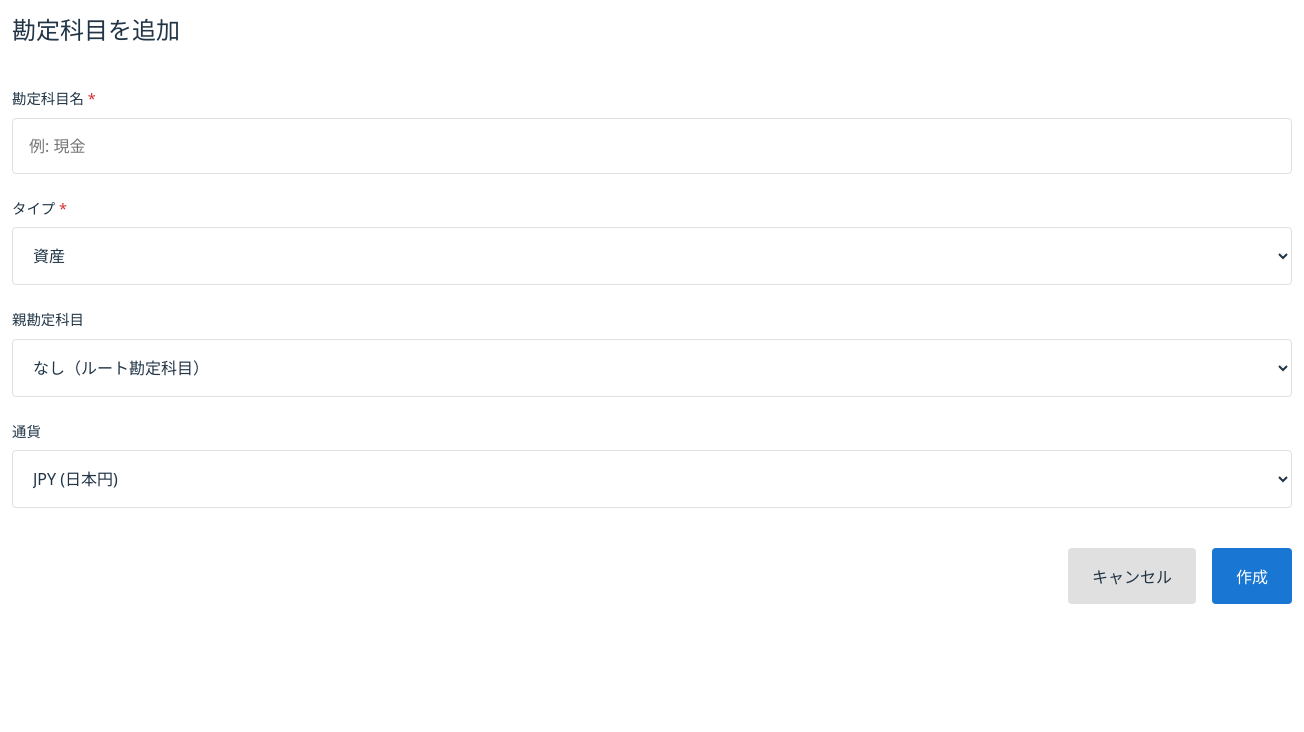
Test: AccountForm › validates required fields
Click the button "作成" at (1252, 576), box [1212,548,1292,604]
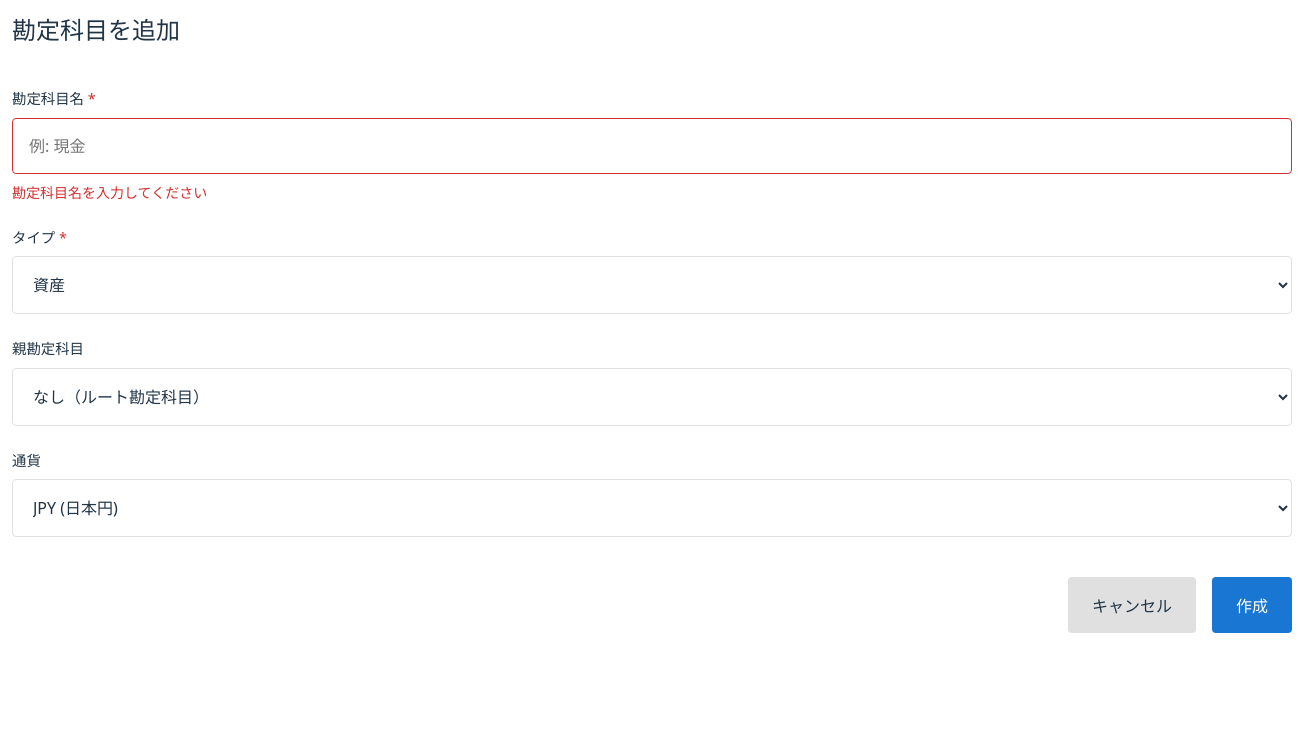
Result: the text "勘定科目名を入力してください" is shown at [12,183,207,202]
